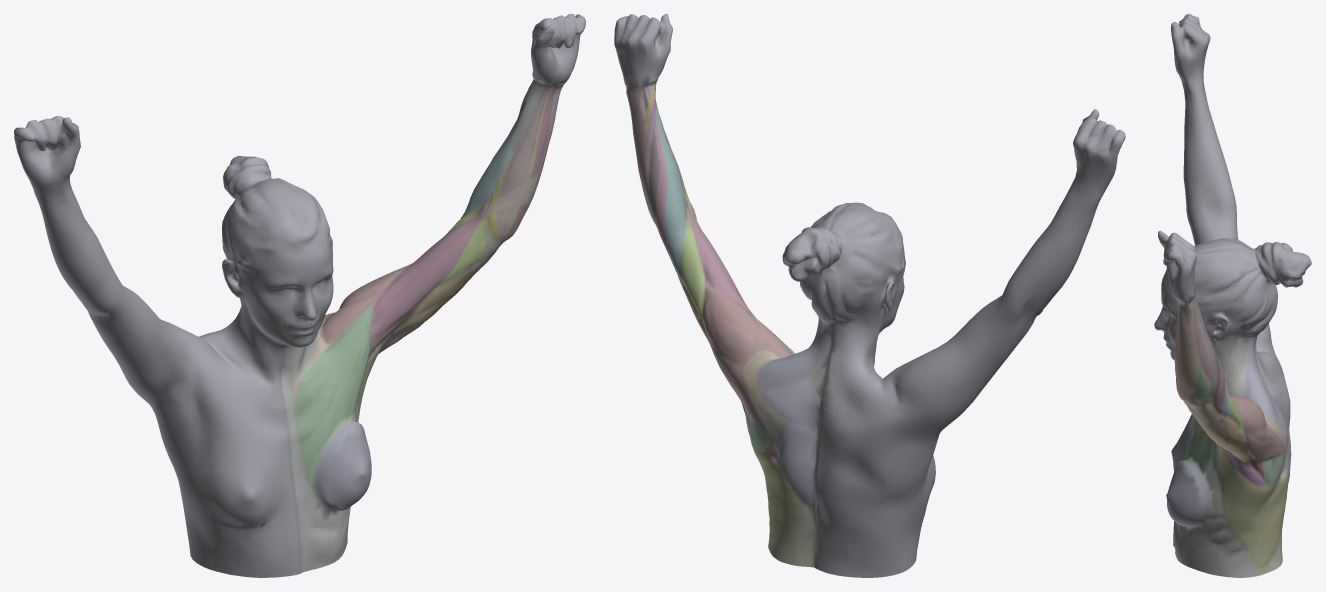
File: 人物其它_20260324183416_opt.glb
3 renders of one model, left to right at view 1: azimuth 30°, elevation 25°; view 2: azimuth 150°, elevation 25°; view 3: azimuth 270°, elevation 25°, orthographic. The views are drawn at different scales.
Visible parts, largest first — view 1: low; view 2: low; view 3: low.
Boxes of the visible parts, left/top/right/bottom form: low: left=14, top=14, right=585, bottom=577; low: left=614, top=14, right=1125, bottom=577; low: left=1154, top=14, right=1311, bottom=577.
Size of the model in its own units: 0.4573 by 0.4 by 0.1332.
Materials: 2 (1 with a texture image).
